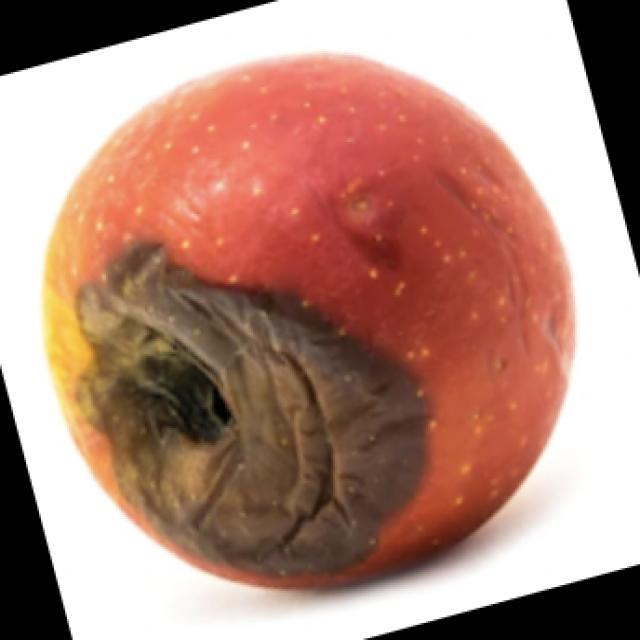Rotten: (56, 55, 566, 577)
